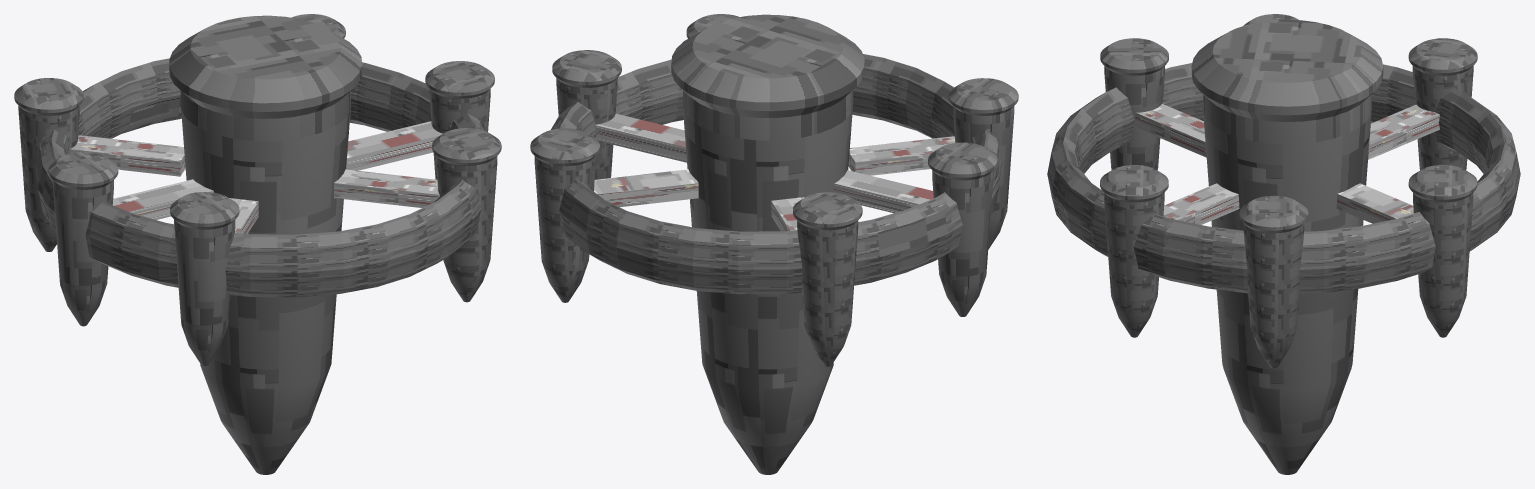
Rendered from mainspacestation.glb.
3 renders of one model, left to right at view 1: azimuth 30°, elevation 25°; view 2: azimuth 150°, elevation 25°; view 3: azimuth 270°, elevation 25°, orthographic.
Visible parts, largest first — view 1: Cylinder.015, Cube.011, Cylinder.020, Cylinder.018, Cylinder.019, Cylinder.021, Cube.005, Cylinder.017, Cube.009, Cube.007, Cube.010, Cylinder.016; view 2: Cylinder.015, Cube.011, Cylinder.021, Cylinder.018, Cylinder.016, Cube.005, Cylinder.020, Cylinder.017, Cube.008, Cube.010, Cube.007, Cylinder.019; view 3: Cylinder.015, Cube.011, Cylinder.017, Cylinder.016, Cylinder.019, Cylinder.020, Cylinder.021, Cube.007, Cube.010, Cube.009, Cube.008.
Part boxes in pixels (x1,y1,x2,y2): Cylinder.015: (169, 15, 362, 474); Cube.011: (35, 58, 484, 297); Cylinder.020: (170, 192, 239, 365); Cylinder.018: (48, 152, 118, 326); Cylinder.019: (432, 128, 501, 302); Cylinder.021: (14, 78, 83, 251); Cube.005: (112, 121, 442, 219); Cylinder.017: (425, 61, 494, 179); Cube.009: (334, 169, 439, 207); Cube.007: (70, 135, 185, 176); Cube.010: (229, 198, 258, 233); Cylinder.016: (292, 14, 345, 38); Cylinder.015: (671, 14, 864, 474); Cube.011: (551, 54, 1002, 294); Cylinder.021: (793, 192, 862, 366); Cylinder.018: (928, 142, 997, 316); Cylinder.016: (530, 128, 599, 302); Cube.005: (595, 113, 933, 213); Cylinder.020: (949, 78, 1018, 249); Cylinder.017: (552, 50, 621, 179); Cube.008: (594, 169, 698, 207); Cube.010: (848, 136, 955, 175); Cube.007: (771, 197, 804, 231); Cylinder.019: (686, 14, 739, 38); Cylinder.015: (1191, 19, 1383, 474); Cube.011: (1047, 63, 1520, 293); Cylinder.017: (1239, 195, 1308, 368); Cylinder.016: (1408, 165, 1477, 337); Cylinder.019: (1100, 165, 1168, 337); Cylinder.020: (1100, 38, 1168, 170); Cylinder.021: (1408, 38, 1477, 170); Cube.007: (1368, 104, 1439, 159); Cube.010: (1134, 103, 1206, 157); Cube.009: (1163, 183, 1239, 224); Cube.008: (1336, 183, 1413, 223).
Size of the model in its own units: 199 by 184 by 188.
Materials: 13 (13 with a texture image).
